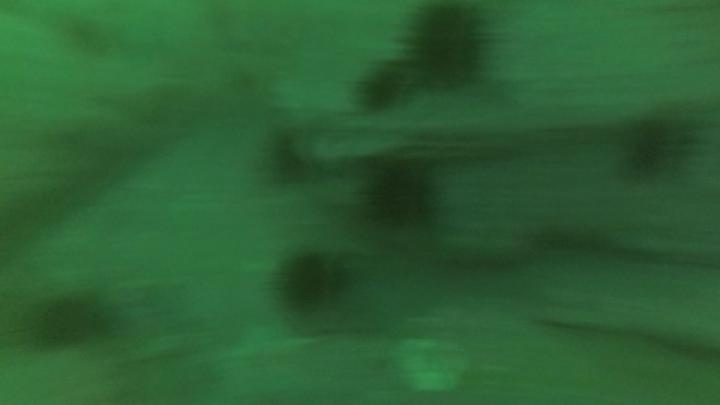echinus: (402, 2, 492, 90), (360, 158, 441, 233), (614, 113, 696, 184), (270, 245, 350, 316), (26, 289, 111, 353), (354, 62, 407, 115)
scallop: (388, 332, 471, 397)
starfish: (217, 319, 320, 405)
